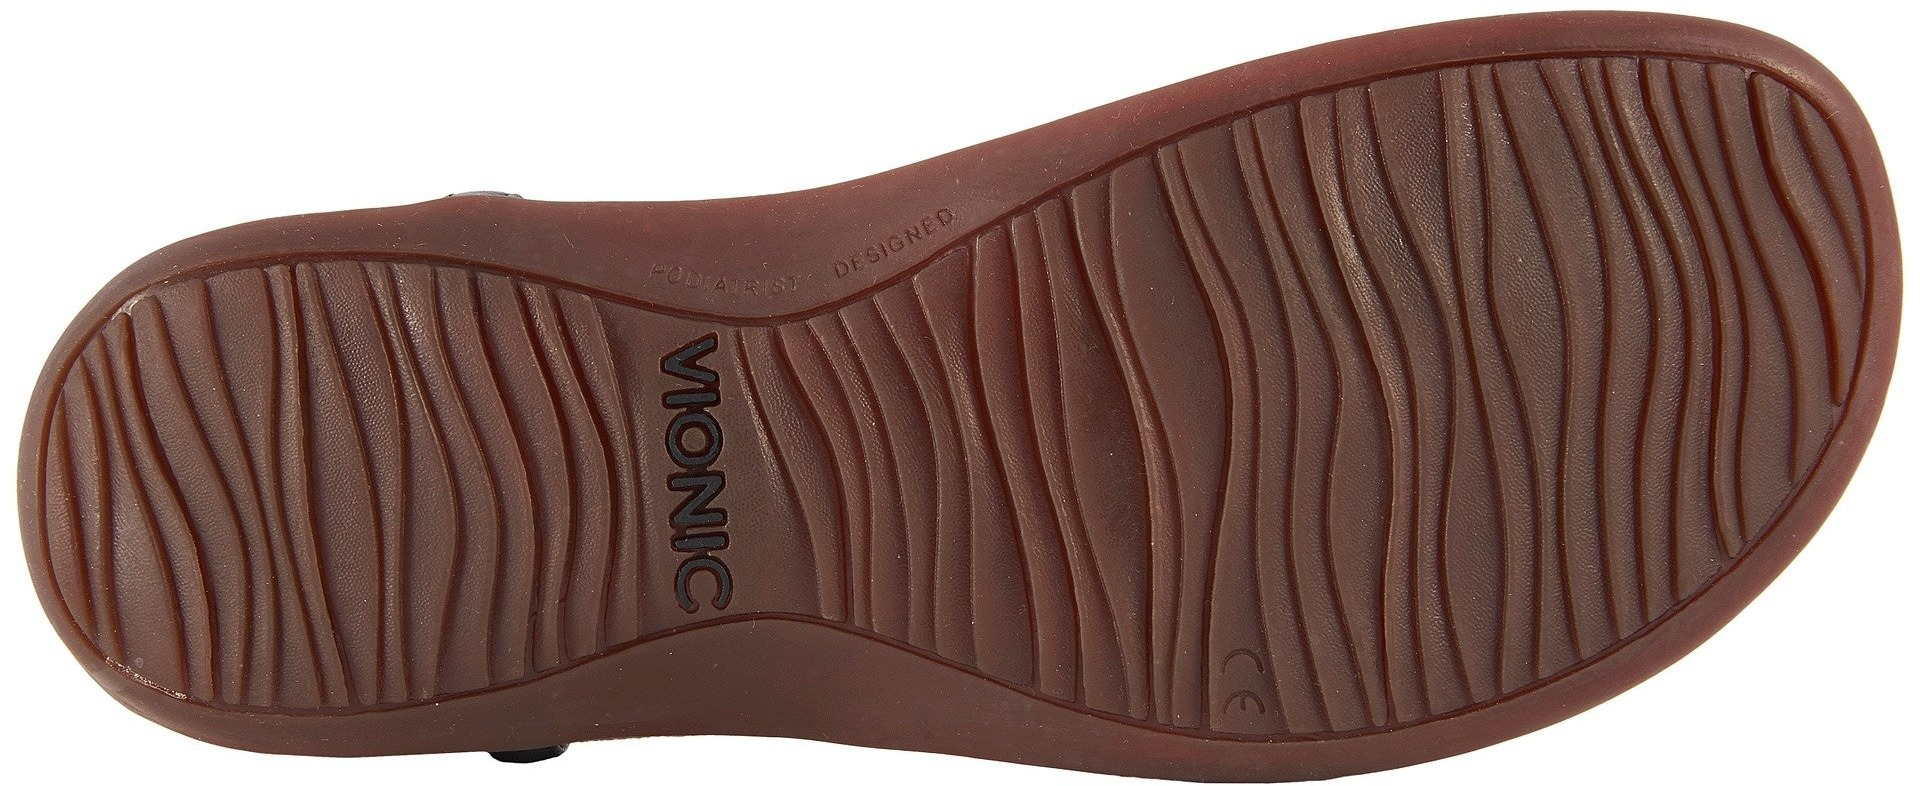text: (634, 344, 758, 479), (655, 491, 791, 612)
